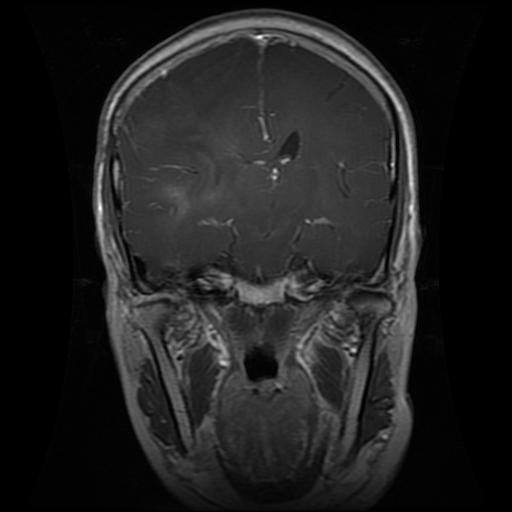Gliomia_tumour: (160, 137, 225, 220)
